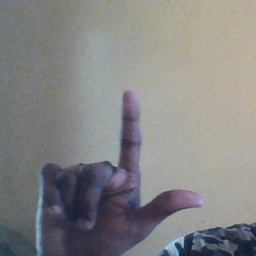L: (35, 88, 205, 256)
